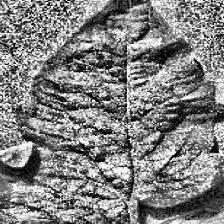Blossom Blight: (132, 136, 195, 174), (102, 24, 165, 52), (40, 157, 103, 183), (44, 70, 86, 104), (132, 80, 165, 118)
